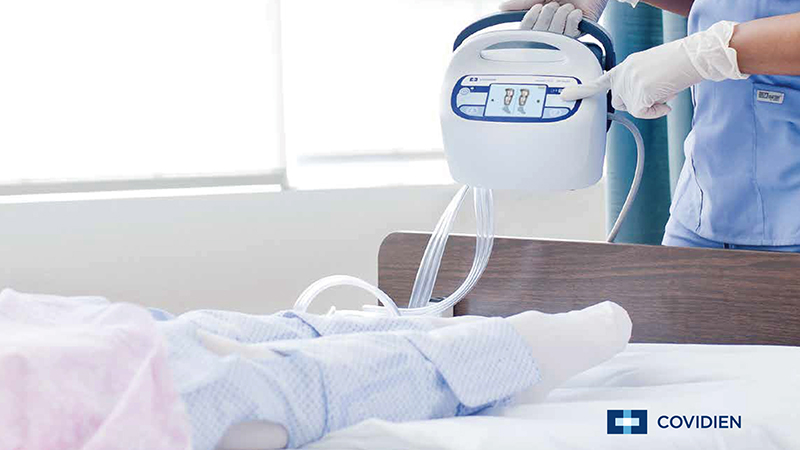foot_board: (374, 230, 800, 347)
sequential_compression: (217, 3, 619, 448)
staff: (506, 1, 800, 244)
